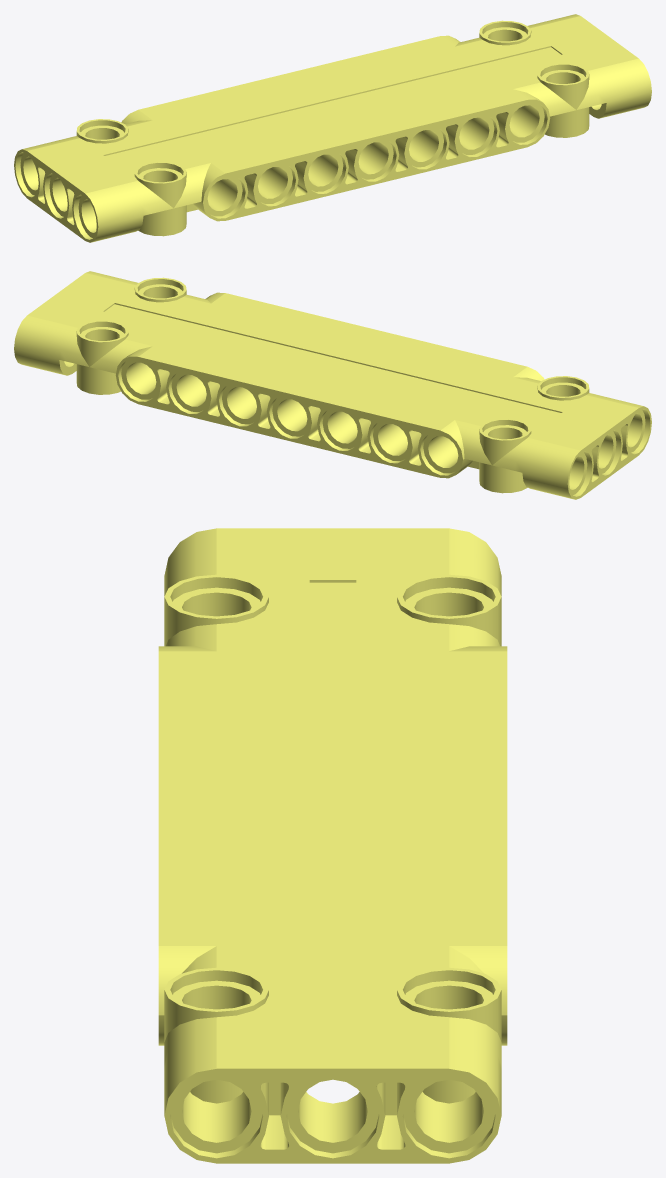
3 renders of one model, top to bottom at view 1: azimuth 30°, elevation 25°; view 2: azimuth 150°, elevation 25°; view 3: azimuth 270°, elevation 25°, orthographic. The views are drawn at different scales.
Visible parts, largest first — view 1: 15458.dat; view 2: 15458.dat; view 3: 15458.dat.
Part boxes in pixels (box(x1,y1,x2,y2)): 15458.dat: box(14, 14, 651, 242); 15458.dat: box(14, 271, 651, 499); 15458.dat: box(158, 528, 507, 1163).
Size of the model in its own units: 0.088 by 0.008 by 0.024.
